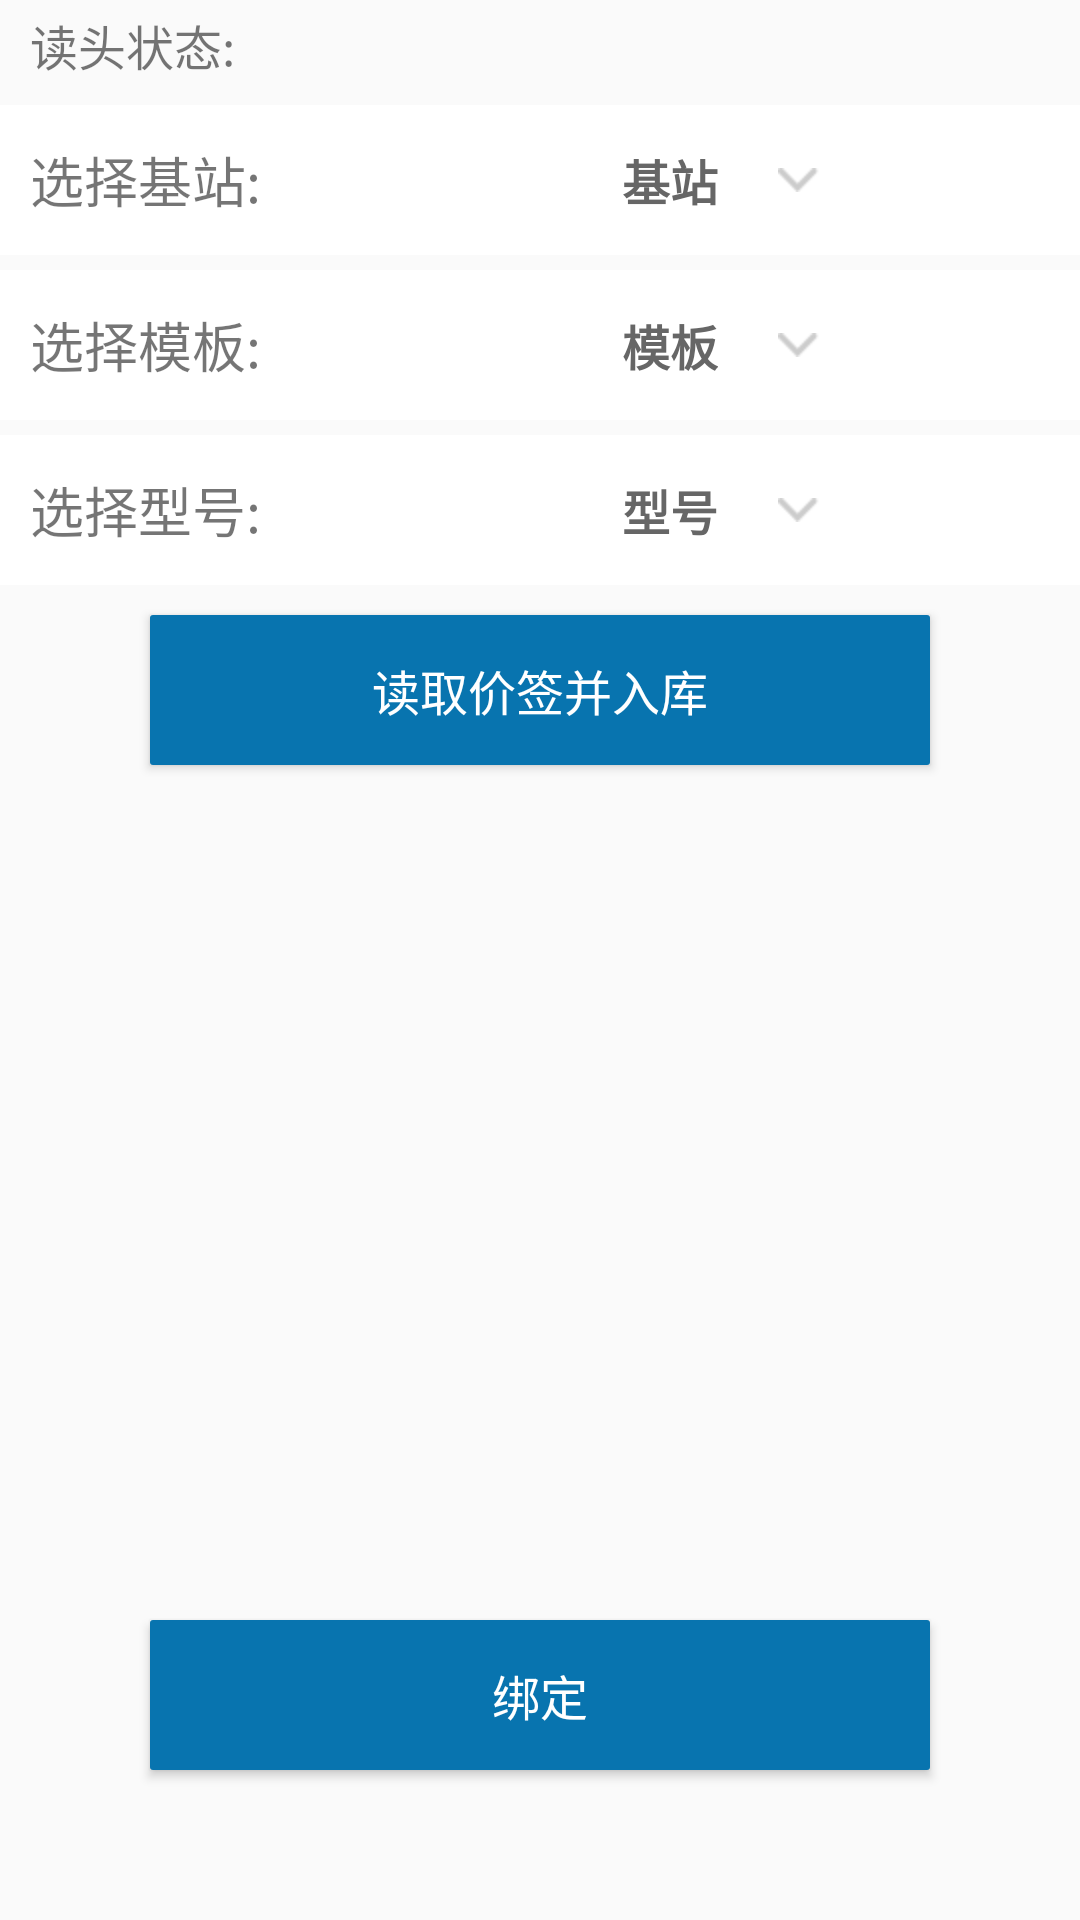

Named icons in this screenshot (1080px x 1920px) and their centers, point (x, y):
arrow down: point (797, 180), point (797, 345), point (797, 510)
